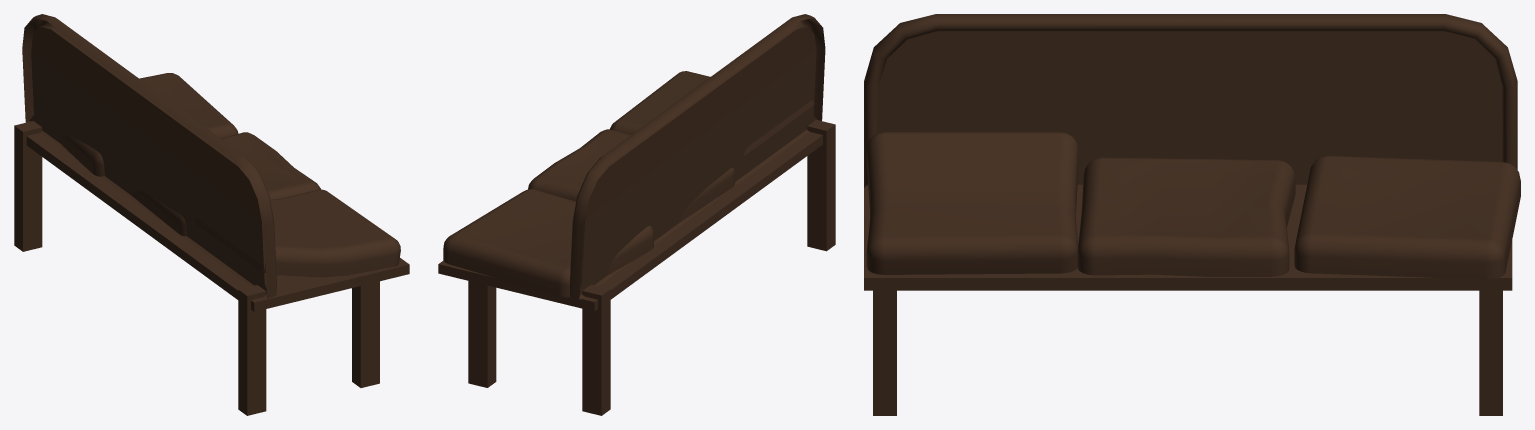
The model's file is Divan.fbx.
The picture shows the model from 3 angles, left to right: view 1: azimuth 30°, elevation 25°; view 2: azimuth 150°, elevation 25°; view 3: azimuth 270°, elevation 25°; orthographic projection. The views are drawn at different scales.
Visible parts, largest first — view 1: polySurface122, polySurface117, polySurface123, polySurface124; view 2: polySurface122, polySurface124, polySurface123, polySurface117; view 3: polySurface122, polySurface117, polySurface124, polySurface123.
Boxes of the visible parts, <box> form: polySurface122: <box>14,14,409,415</box>; polySurface117: <box>194,189,400,277</box>; polySurface123: <box>130,132,320,236</box>; polySurface124: <box>60,73,238,176</box>; polySurface122: <box>438,14,835,415</box>; polySurface124: <box>443,189,653,297</box>; polySurface123: <box>528,129,734,223</box>; polySurface117: <box>610,71,814,155</box>; polySurface122: <box>864,14,1517,415</box>; polySurface117: <box>866,132,1078,274</box>; polySurface124: <box>1294,155,1520,279</box>; polySurface123: <box>1077,157,1295,276</box>.
Size of the model in its own units: 77.05 by 109 by 200.
